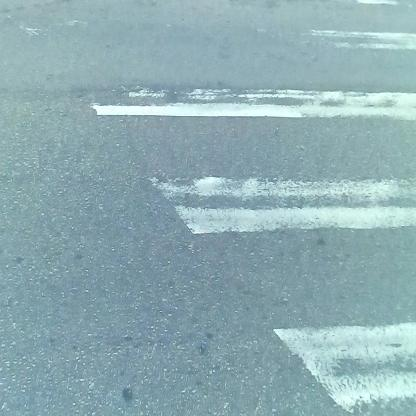crosswalk: (11, 9, 416, 416)
